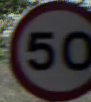Speed limit: (10, 6, 87, 94)
